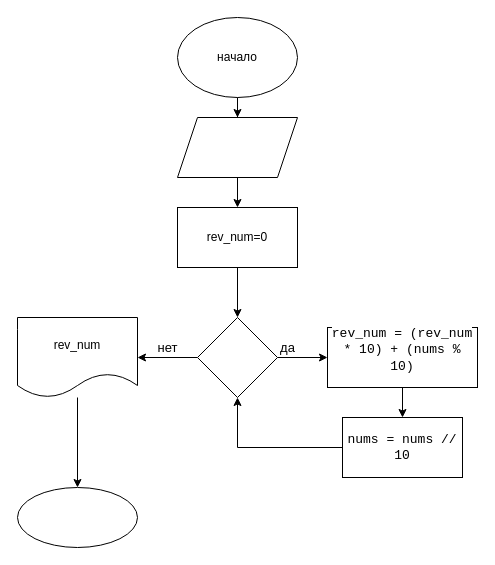
This 495x565 diagram has some shape labels left out. Here are the shapes that lost their labels. From the top down, the centre of each, then its label:
At (x=237, y=147): "nums=int(input())".
At (x=237, y=357): "nums != 0".
At (x=77, y=517): "конец".
